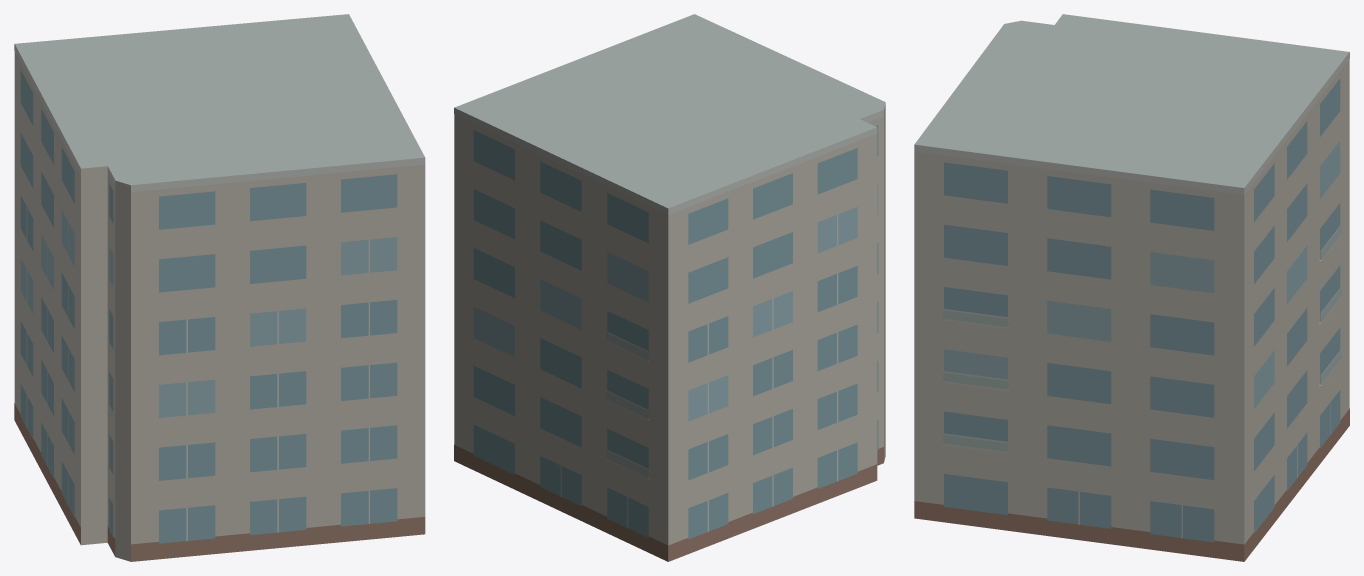
Rendered from survey-upis-32975239.glb.
3 views of the same model, side by side, from view 1: azimuth 30°, elevation 25°; view 2: azimuth 150°, elevation 25°; view 3: azimuth 270°, elevation 25° (orthographic). The views are drawn at different scales.
Visible parts, largest first — view 1: survey-upis-32975239.tmp; view 2: survey-upis-32975239.tmp; view 3: survey-upis-32975239.tmp.
Boxes of the visible parts, x1,y1,x2,y2 form: survey-upis-32975239.tmp: [14, 14, 425, 561]; survey-upis-32975239.tmp: [454, 14, 885, 561]; survey-upis-32975239.tmp: [914, 14, 1349, 561].
Size of the model in its own units: 13.39 by 13.4 by 14.16.
